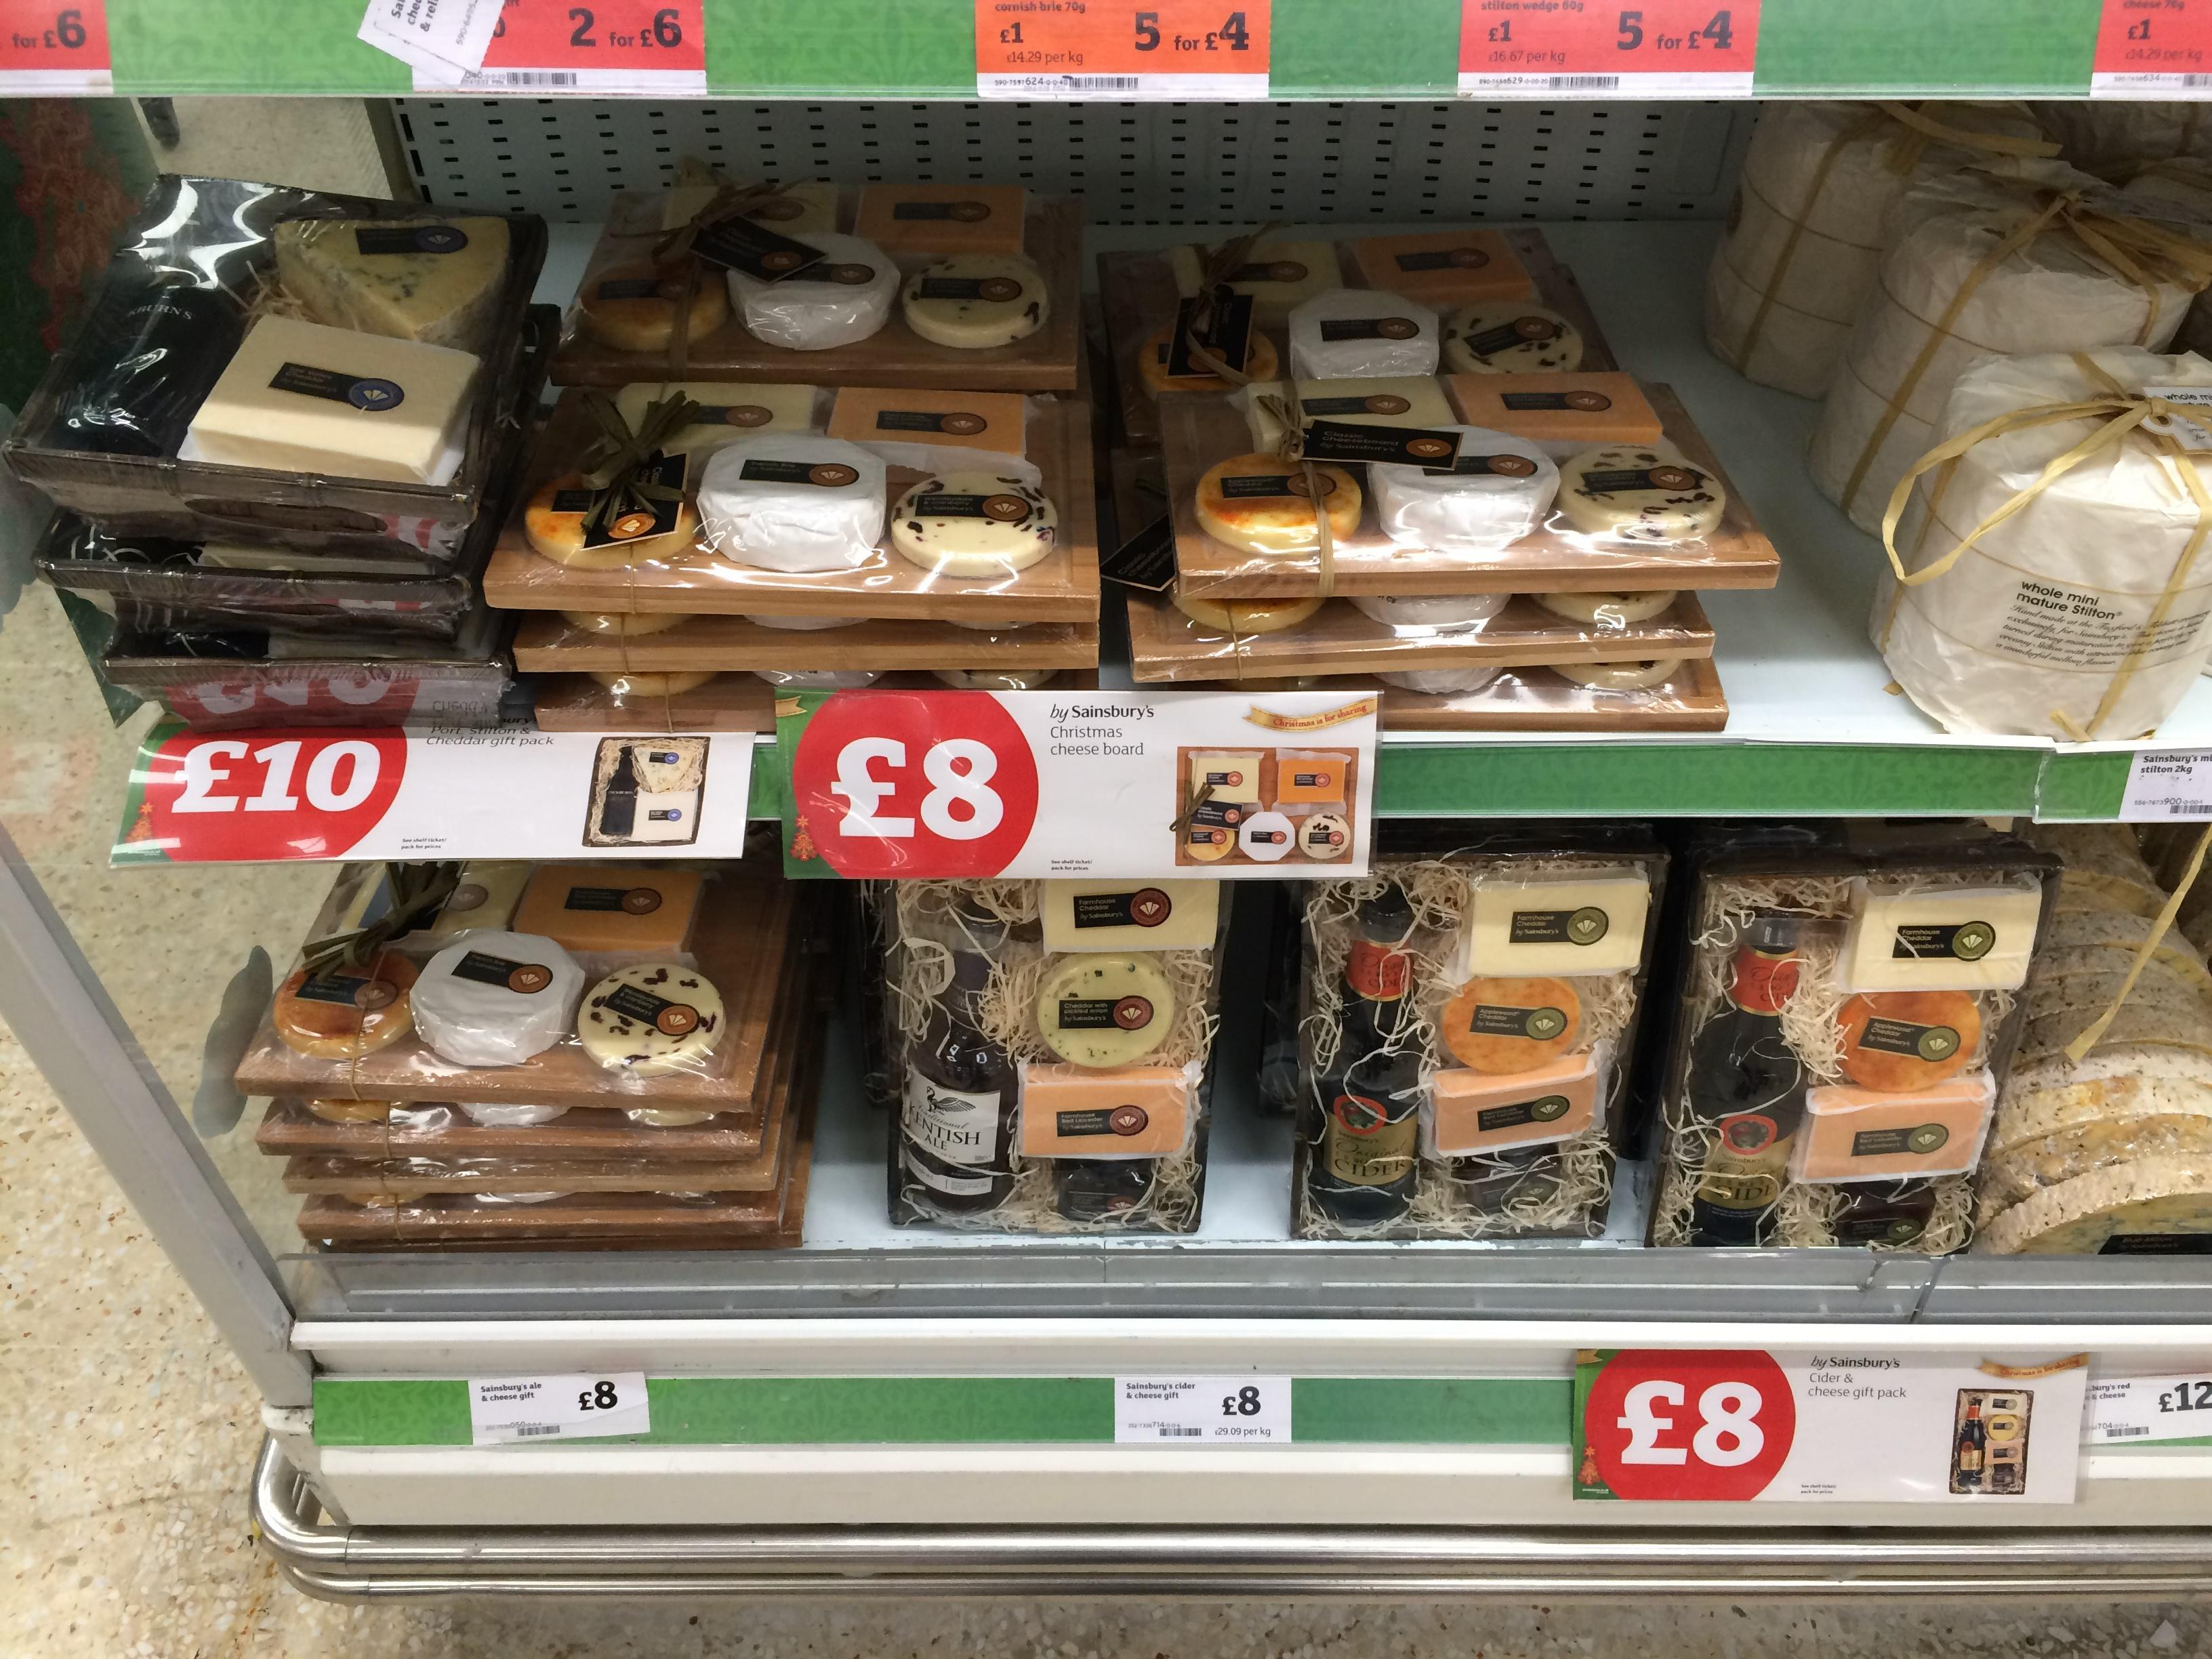cheese: (1806, 162, 2191, 530), (1853, 349, 2212, 739), (1703, 101, 2006, 397), (186, 315, 479, 484), (272, 216, 509, 350), (698, 432, 887, 572), (1369, 425, 1559, 552), (1979, 1110, 2212, 1211), (411, 929, 583, 1065), (1991, 1046, 2212, 1150), (1791, 1070, 1994, 1183), (1977, 1155, 2212, 1253), (1838, 878, 2041, 990), (726, 232, 899, 350), (1423, 1046, 1604, 1157), (1461, 871, 1649, 976), (1442, 373, 1662, 458), (892, 471, 1057, 579), (514, 864, 702, 955), (577, 962, 723, 1077), (1019, 1063, 1191, 1159), (1557, 444, 1726, 542), (524, 474, 697, 568), (1036, 953, 1174, 1066), (272, 951, 416, 1058), (615, 382, 819, 457), (1838, 992, 1982, 1091), (578, 260, 730, 354), (1439, 976, 1581, 1075), (1345, 228, 1533, 303), (900, 254, 1049, 349), (1287, 288, 1439, 378), (827, 387, 1026, 455), (1042, 878, 1217, 951), (1195, 453, 1318, 554), (855, 185, 1026, 253), (1442, 301, 1583, 373), (1228, 237, 1341, 326), (1296, 376, 1454, 429), (427, 861, 533, 936), (1172, 587, 1324, 636), (1137, 324, 1230, 399), (1348, 594, 1510, 636), (2101, 997, 2212, 1056), (2027, 953, 2130, 1012), (2045, 913, 2148, 969), (742, 179, 838, 237), (1533, 593, 1676, 629), (2057, 870, 2167, 917), (1273, 749, 1350, 814), (1548, 657, 1684, 690), (2029, 974, 2123, 1021), (1188, 749, 1261, 805), (559, 610, 690, 638), (1376, 667, 1498, 695), (590, 671, 718, 697), (1238, 810, 1296, 863), (932, 667, 1061, 690), (456, 1101, 570, 1126), (1299, 812, 1352, 861), (301, 1098, 399, 1122), (754, 671, 881, 688), (1184, 824, 1235, 863), (745, 615, 860, 631), (624, 1108, 716, 1127)
